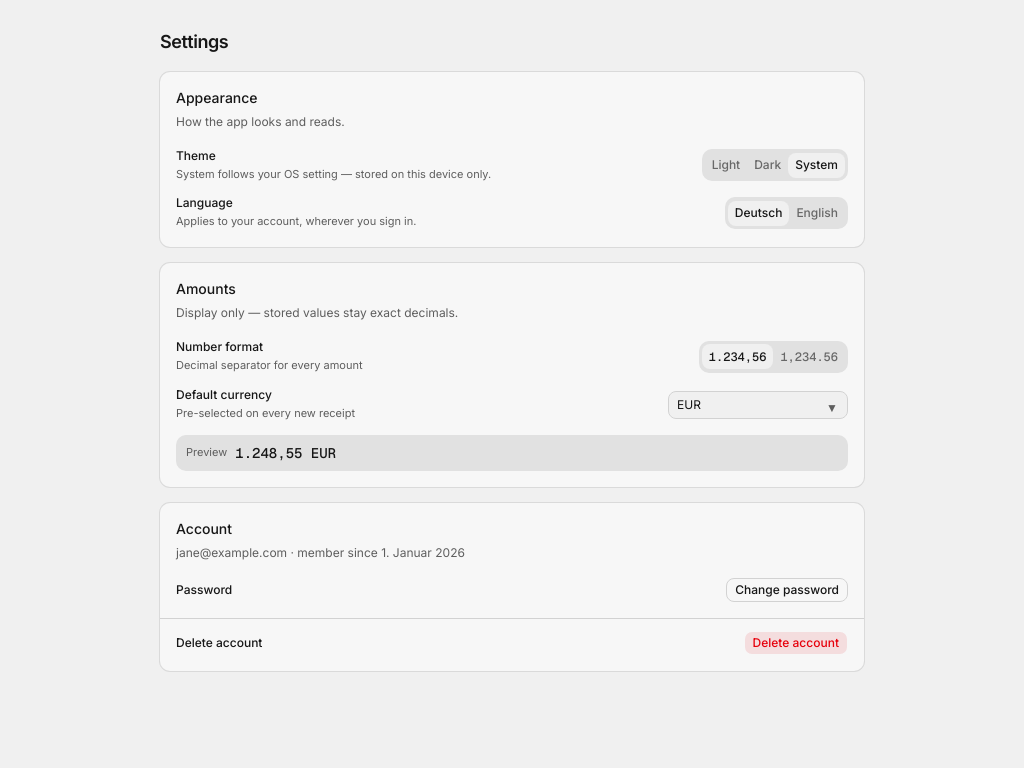
SettingsPage › shows an inline error when the current password is wrong
Click the button "Change password" at (787, 590), box [726,578,848,602]
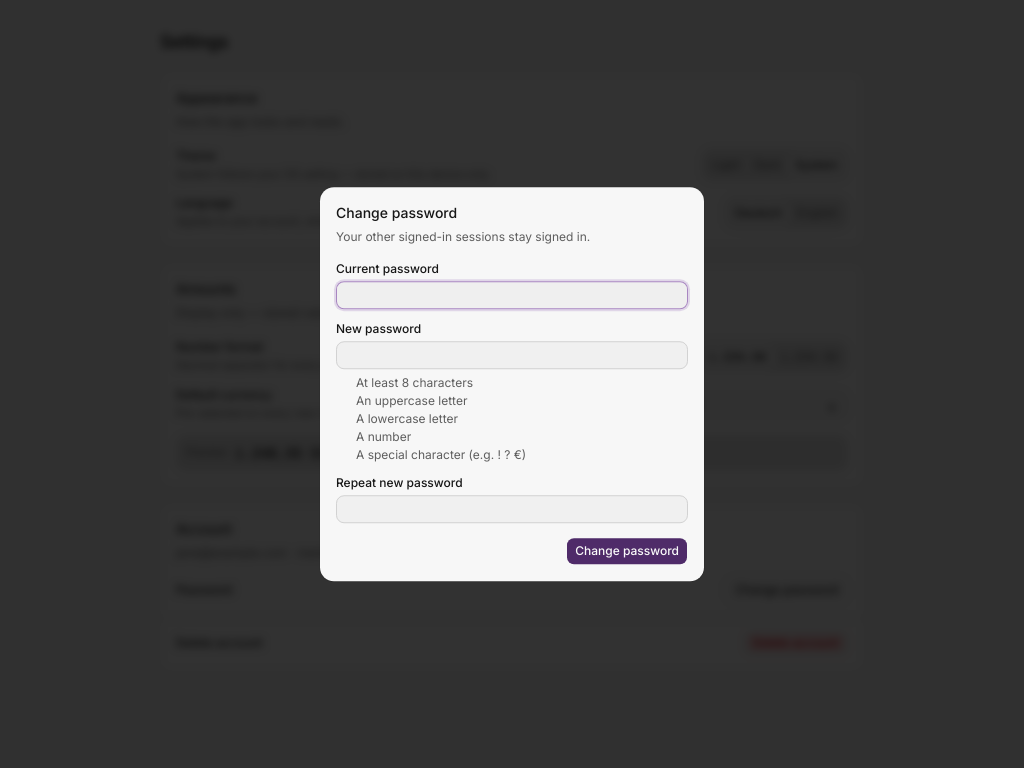
Type "wrong-password" into the password field labelled "Current password" at (512, 295), box [336,281,688,309]
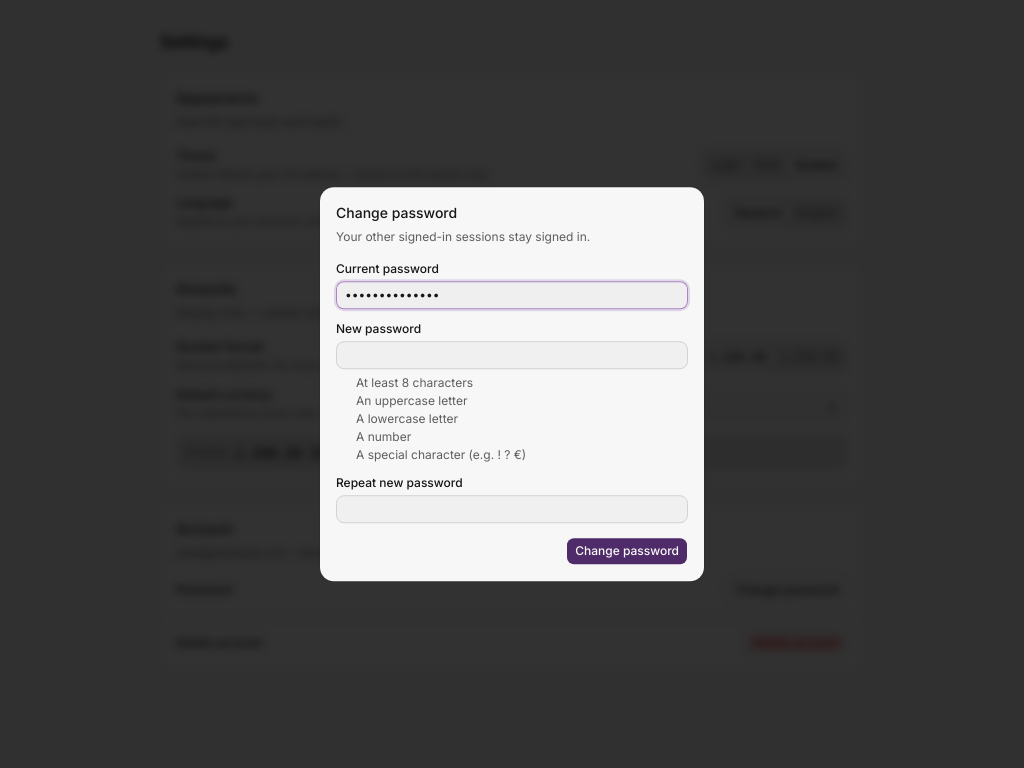
Type "New-password-123" into the password field labelled "New password" at (512, 355), box [336,341,688,369]
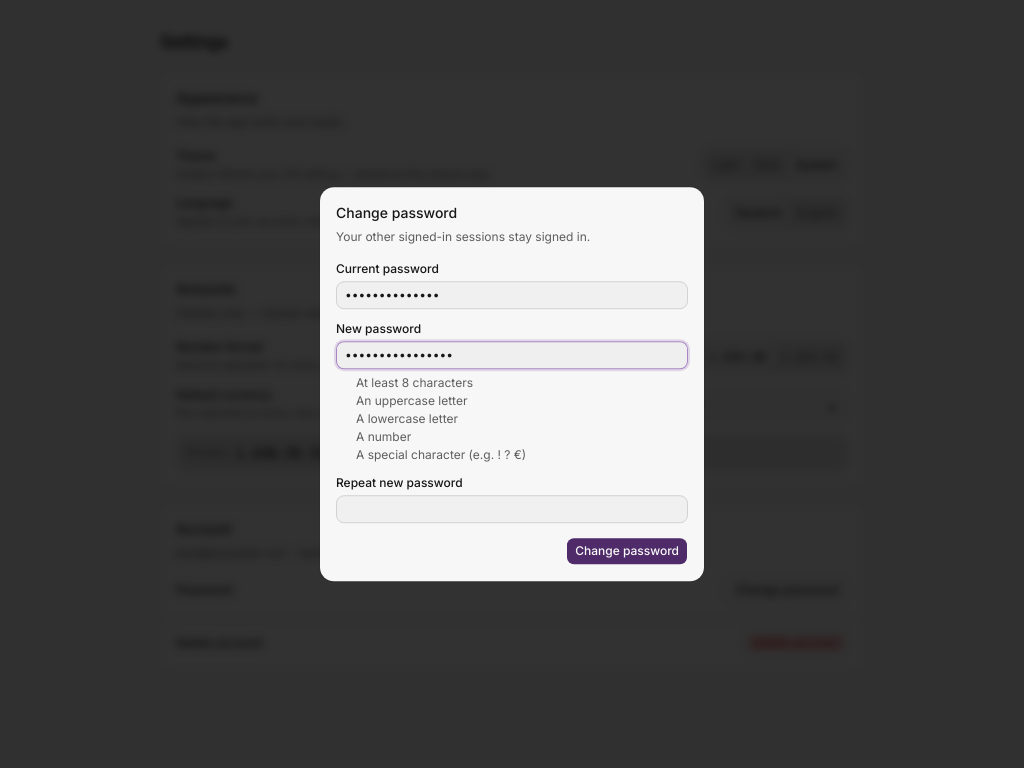
Type "New-password-123" into the password field labelled "Repeat new password" at (512, 509), box [336,495,688,523]
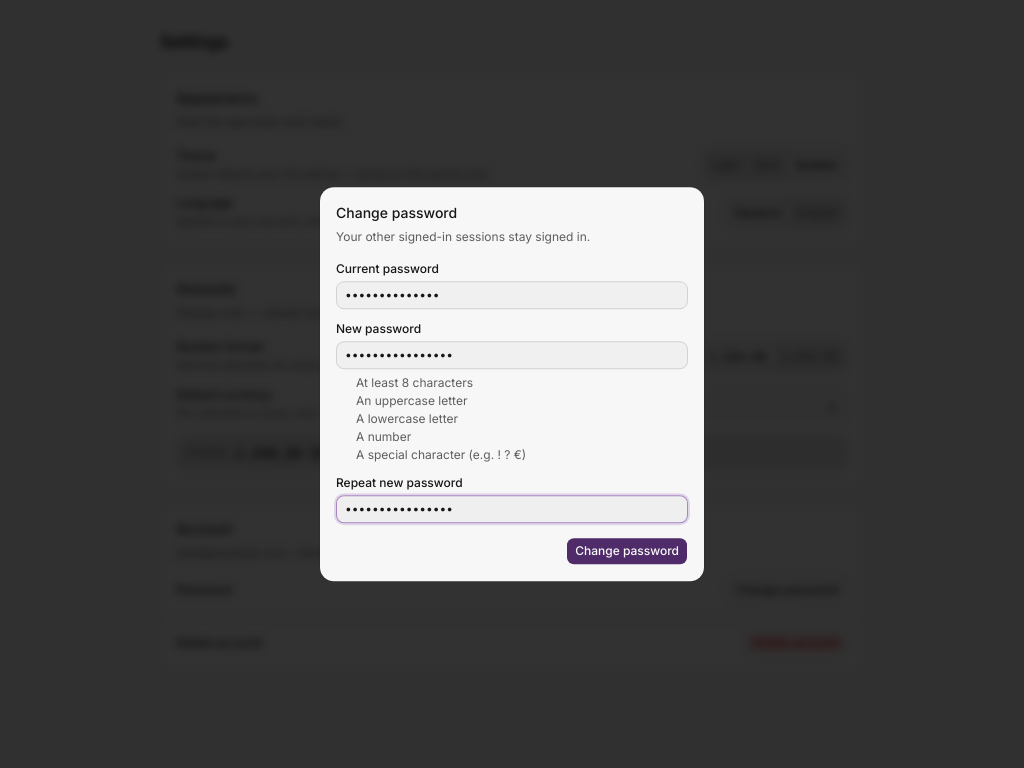
Click the button "Change password" at (627, 551), box [566,537,688,565]
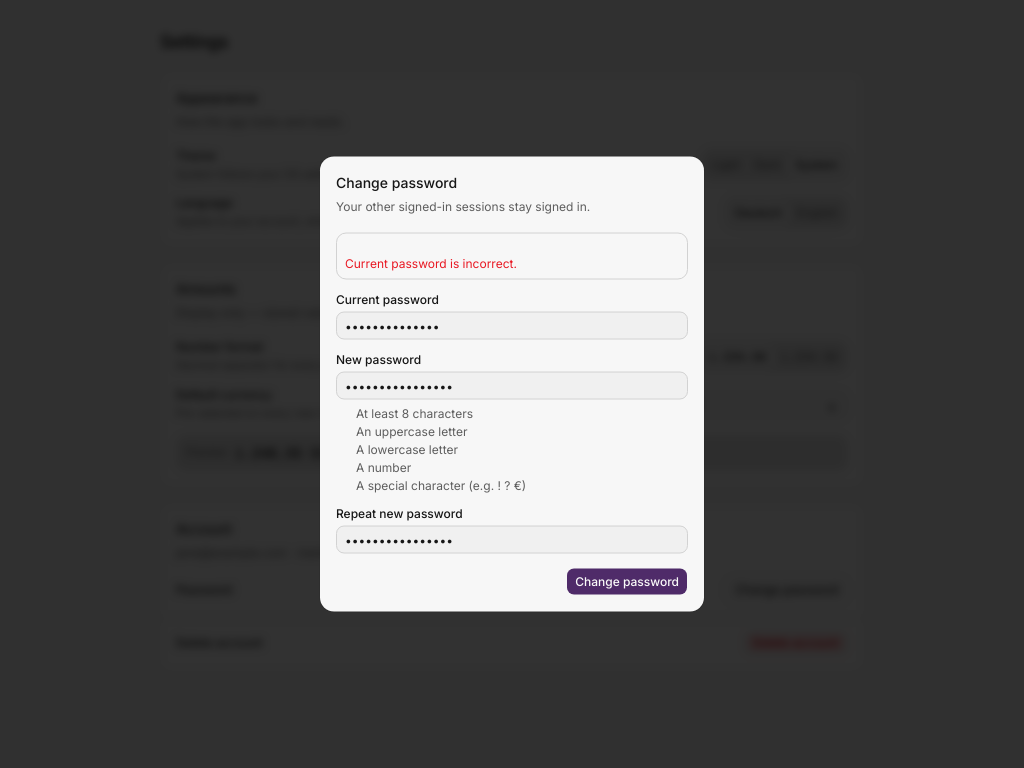
expect the dialog is shown: met, box [320,156,704,612]
expect the text "Current password is incorrect." is shown: met, box [345,255,517,270]
